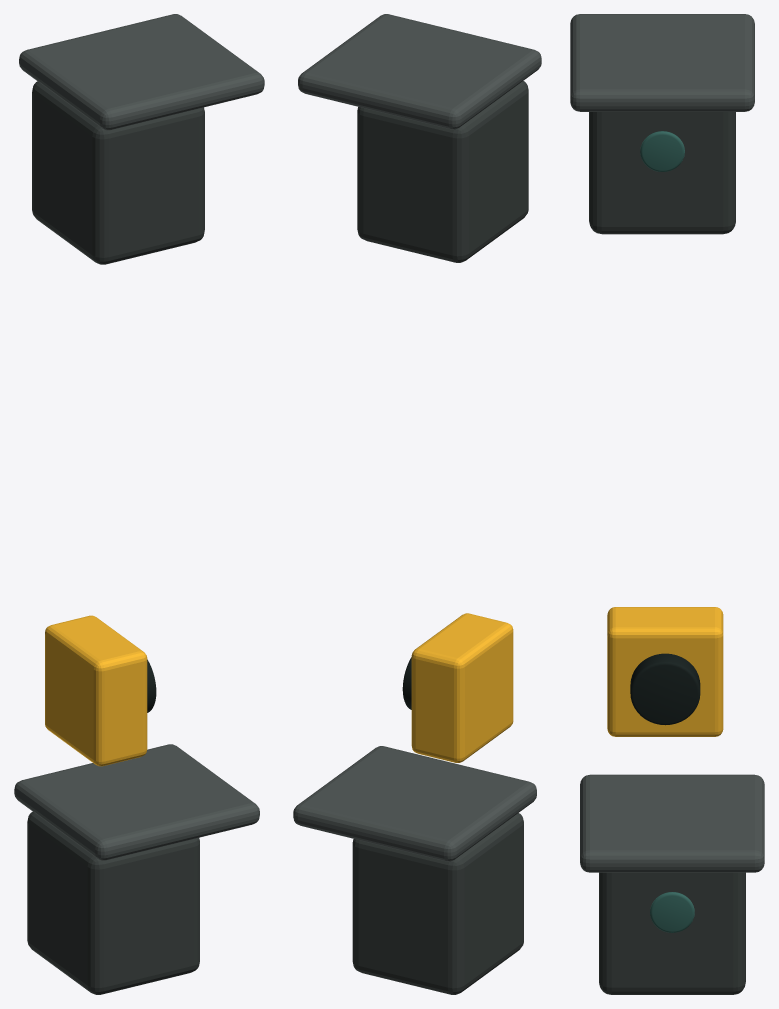
Rendered from SM_Charger_Sensors.fbx.
The picture shows the model from 3 angles, left to right: view 1: azimuth 30°, elevation 25°; view 2: azimuth 150°, elevation 25°; view 3: azimuth 270°, elevation 25°; orthographic projection. The views are drawn at different scales.
Parts seen in each view (by area): view 1: SM_Charger_Sensors.001; view 2: SM_Charger_Sensors.001; view 3: SM_Charger_Sensors.001.
Boxes of the visible parts, <box> form: SM_Charger_Sensors.001: <box>14,14,264,994</box>; SM_Charger_Sensors.001: <box>293,14,541,994</box>; SM_Charger_Sensors.001: <box>570,14,764,994</box>.
Size of the model in its own units: 0.14 by 0.139 by 0.734.
